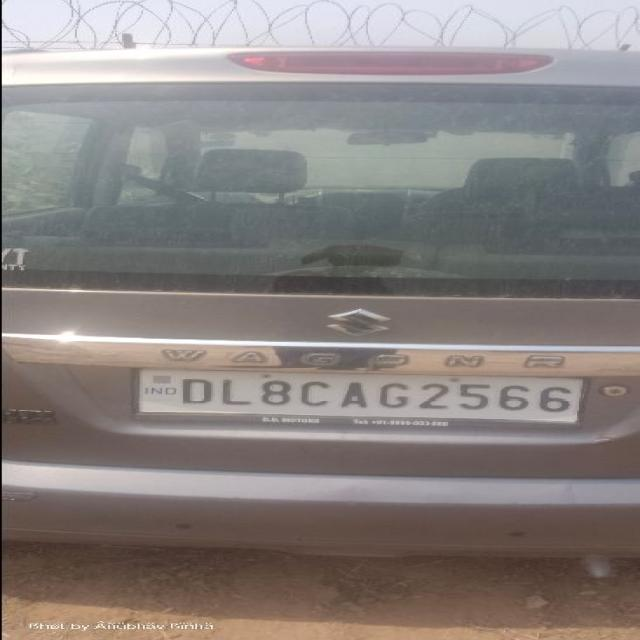license_plate: (129, 366, 588, 425)
